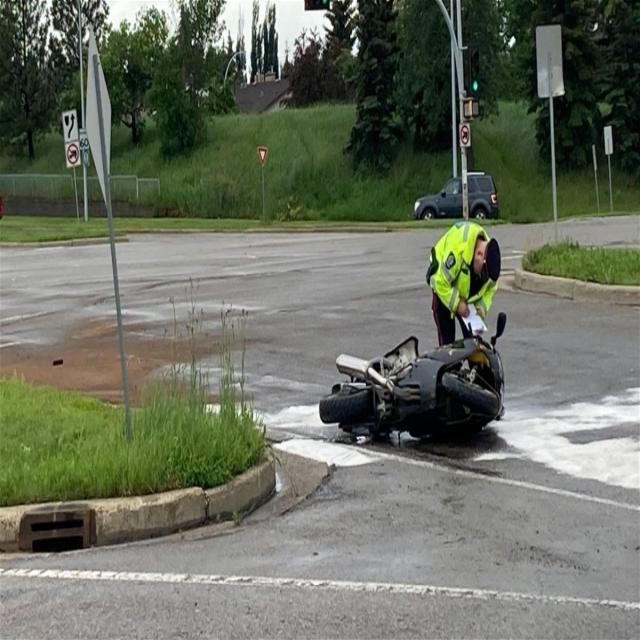accident: (320, 313, 506, 437)
car: (414, 178, 462, 220)
